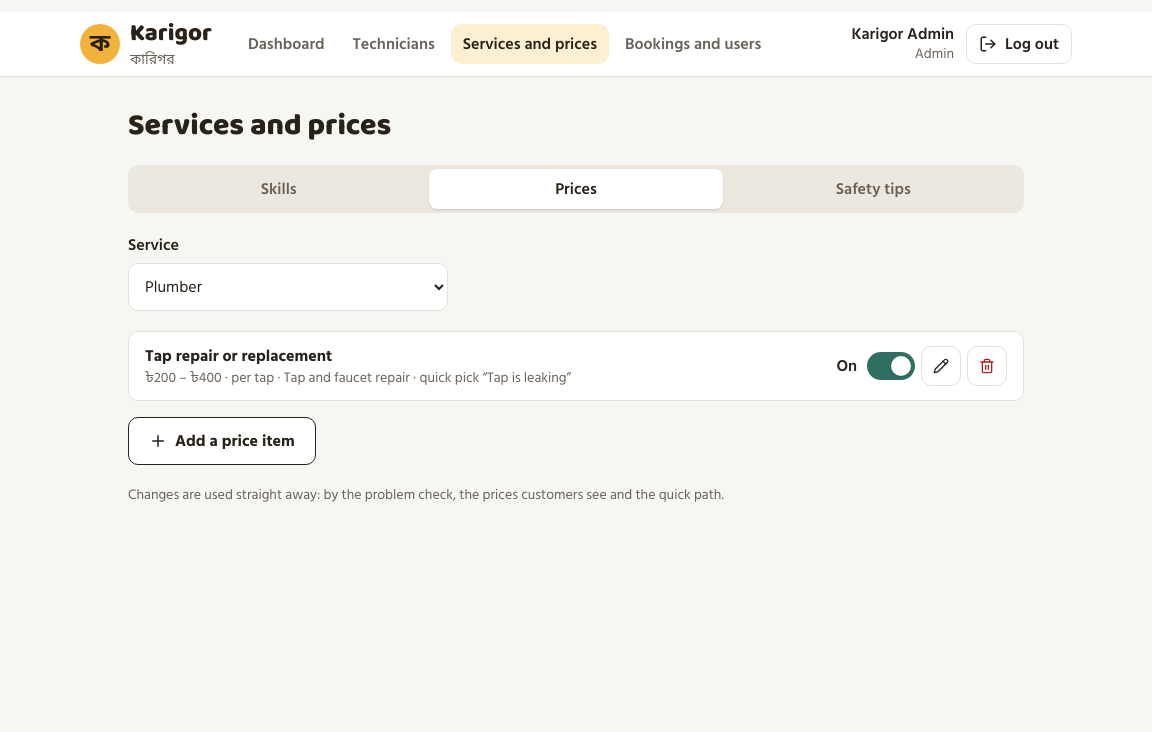
Test case: Admin catalog › shows why a skill cannot be removed
Click the tab "Skills" at (279, 189), box [132,169,425,209]
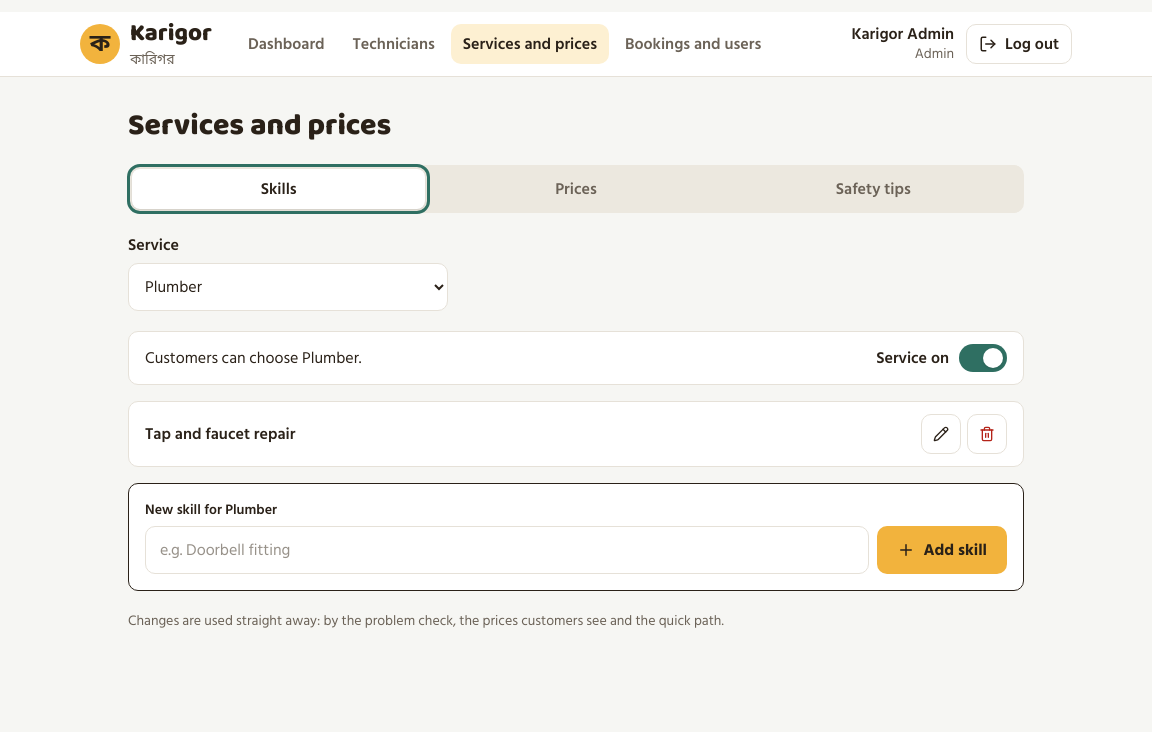
Click the button named "Remove Tap and faucet repair" at (987, 434), box [967,414,1007,454]
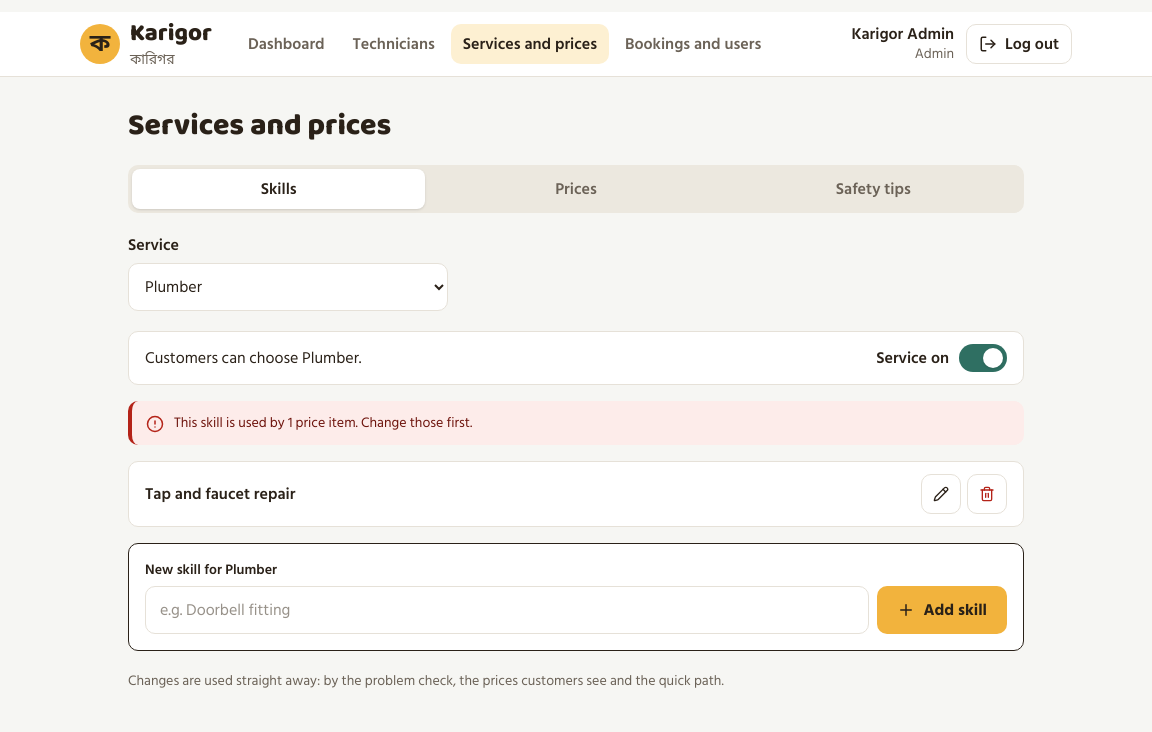
Check: the text "This skill is used by 1 price item. Change those first." is shown, box [174,413,472,433]
